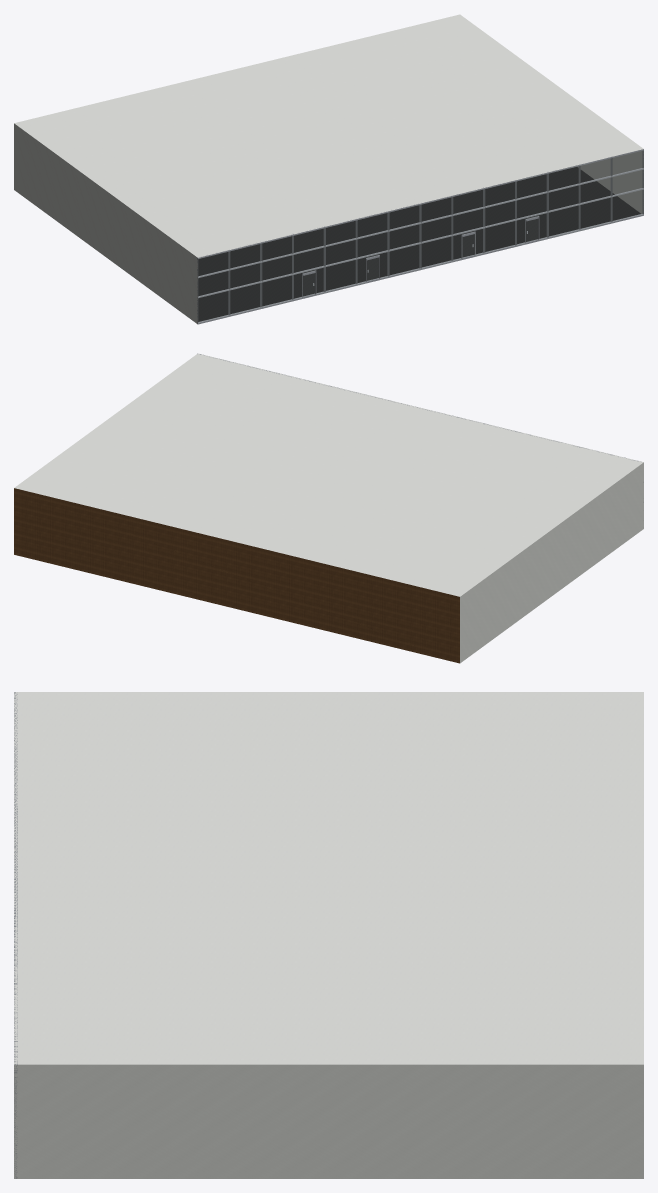
Rendered from range_10m.fbx.
The picture shows the model from 3 angles, top to bottom: view 1: azimuth 30°, elevation 25°; view 2: azimuth 150°, elevation 25°; view 3: azimuth 270°, elevation 25°; orthographic projection. The views are drawn at different scales.
Parts seen in each view (by area): view 1: ceiling, glass, floor_black, wall_plaster, metal_frame, door_glass; view 2: ceiling, wall_wood, wall_plaster; view 3: ceiling, wall_plaster, metal_frame.
Part boxes in pixels (left/top/right/bottom): ceiling: left=14, top=14, right=643, bottom=257; glass: left=198, top=151, right=643, bottom=322; floor_black: left=198, top=167, right=640, bottom=321; wall_plaster: left=14, top=123, right=643, bottom=324; metal_frame: left=197, top=149, right=643, bottom=324; door_glass: left=303, top=219, right=537, bottom=296; ceiling: left=14, top=353, right=643, bottom=596; wall_wood: left=14, top=488, right=459, bottom=663; wall_plaster: left=460, top=462, right=643, bottom=663; ceiling: left=14, top=692, right=643, bottom=1064; wall_plaster: left=14, top=1064, right=643, bottom=1178; metal_frame: left=14, top=692, right=17, bottom=1178.
Bounding box in the file's own units: 4200 × 600 × 3000.
